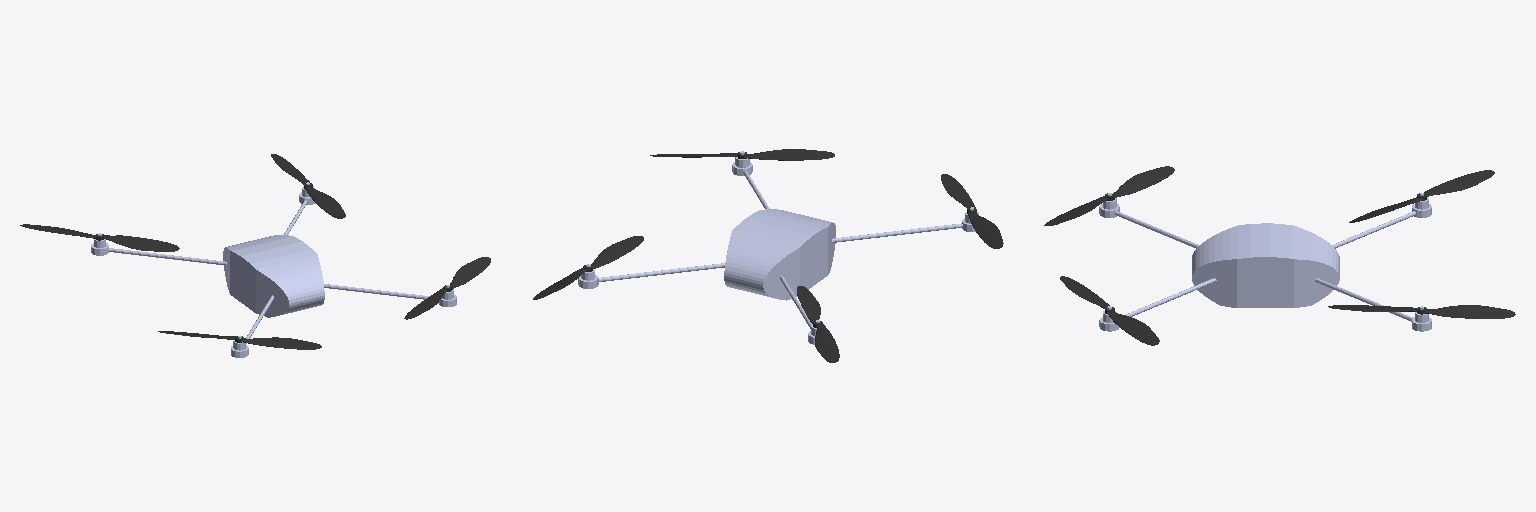
The robot description file, URDF, robot "Drone_Assembly":
<?xml version="1.0" encoding="utf-8"?>
<!-- This URDF was automatically created by SolidWorks to URDF Exporter! Originally created by [author] ([email redacted]) 
     Commit Version: 1.6.0-4-g7f85cfe  Build Version: 1.6.7995.38578
     For more information, please see http://wiki.ros.org/sw_urdf_exporter -->
<robot
  name="Drone_Assembly">
  <link
    name="base_link">
    <inertial>
      <origin
        xyz="9.3352E-08 -8.6507E-06 -0.020163"
        rpy="0 0 0" />
      <mass
        value="2.83" />
      <inertia
        ixx="0.020222"
        ixy="3.5918E-08"
        ixz="-7.5829E-11"
        iyy="0.011563"
        iyz="-5.9524E-09"
        izz="0.02802" />
    </inertial>
    <visual>
      <origin
        xyz="0 0 0"
        rpy="0 0 0" />
      <geometry>
        <mesh
          filename="package://Drone_Assembly/meshes/base_link.STL" />
      </geometry>
      <material
        name="">
        <color
          rgba="0.79216 0.81961 0.93333 1" />
      </material>
    </visual>
    <collision>
      <origin
        xyz="0 0 0"
        rpy="0 0 0" />
      <geometry>
        <mesh
          filename="package://Drone_Assembly/meshes/base_link.STL" />
      </geometry>
    </collision>
  </link>
  <link
    name="Prop_1">
    <visual>
      <origin
        xyz="0 0 0"
        rpy="0 0 0" />
      <geometry>
        <mesh
          filename="package://Drone_Assembly/meshes/Prop_1.STL" />
      </geometry>
      <material
        name="">
        <color
          rgba="0.25098 0.25098 0.25098 1" />
      </material>
    </visual>
  </link>
  <joint
    name="Prop_1"
    type="continuous">
    <origin
      xyz="0.23575 -0.27404 0.0070576"
      rpy="0 0 0" />
    <parent
      link="base_link" />
    <child
      link="Prop_1" />
    <axis
      xyz="0.061276 -0.10354 0.99274" />
    <limit
      lower="0"
      upper="0"
      effort="0"
      velocity="0" />
    <dynamics
      damping="0"
      friction="0" />
  </joint>
  <link
    name="Prop_2">
    <visual>
      <origin
        xyz="0 0 0"
        rpy="0 0 0" />
      <geometry>
        <mesh
          filename="package://Drone_Assembly/meshes/Prop_2.STL" />
      </geometry>
      <material
        name="">
        <color
          rgba="0.25098 0.25098 0.25098 1" />
      </material>
    </visual>
  </link>
  <joint
    name="Prop_2"
    type="continuous">
    <origin
      xyz="-0.23575 -0.27404 0.0070576"
      rpy="0 0 0" />
    <parent
      link="base_link" />
    <child
      link="Prop_2" />
    <axis
      xyz="0.081377 0.088619 0.99274" />
    <limit
      lower="0"
      upper="0"
      effort="0"
      velocity="0" />
    <dynamics
      damping="0"
      friction="0" />
  </joint>
  <link
    name="Prop_3">
    <visual>
      <origin
        xyz="0 0 0"
        rpy="0 0 0" />
      <geometry>
        <mesh
          filename="package://Drone_Assembly/meshes/Prop_3.STL" />
      </geometry>
      <material
        name="">
        <color
          rgba="0.25098 0.25098 0.25098 1" />
      </material>
    </visual>
  </link>
  <joint
    name="Prop_3"
    type="continuous">
    <origin
      xyz="-0.23575 0.27404 0.0070576"
      rpy="0 0 0" />
    <parent
      link="base_link" />
    <child
      link="Prop_3" />
    <axis
      xyz="0.091982 0.077554 -0.99274" />
    <limit
      lower="0"
      upper="0"
      effort="0"
      velocity="0" />
    <dynamics
      damping="0"
      friction="0" />
  </joint>
  <link
    name="Prop_4">
    <visual>
      <origin
        xyz="0 0 0"
        rpy="0 0 0" />
      <geometry>
        <mesh
          filename="package://Drone_Assembly/meshes/Prop_4.STL" />
      </geometry>
      <material
        name="">
        <color
          rgba="0.25098 0.25098 0.25098 1" />
      </material>
    </visual>
  </link>
  <joint
    name="Prop_4"
    type="continuous">
    <origin
      xyz="0.23575 0.27404 0.0070576"
      rpy="0 0 0" />
    <parent
      link="base_link" />
    <child
      link="Prop_4" />
    <axis
      xyz="0.11976 -0.011499 0.99274" />
    <limit
      lower="0"
      upper="0"
      effort="0"
      velocity="0" />
    <dynamics
      damping="0"
      friction="0" />
  </joint>
</robot>

--- Facts derived from the render (not from the file) ---
3 views of the same robot in one strip: view 1: azimuth 30°, elevation 25°; view 2: azimuth 150°, elevation 25°; view 3: azimuth 270°, elevation 25° (orthographic).
Model Drone_Assembly with 5 links and 4 joints (4 continuous), rooted at base_link, posed all joints at 0.
Links seen in each view (by area): view 1: base_link, Prop_3, Prop_1, Prop_4, Prop_2; view 2: base_link, Prop_2, Prop_3, Prop_4, Prop_1; view 3: base_link, Prop_4, Prop_2, Prop_1, Prop_3.
Boxes of the visible links, <box> form: base_link: <box>91,182,456,357</box>; Prop_3: <box>20,224,179,251</box>; Prop_1: <box>404,257,490,319</box>; Prop_4: <box>271,154,345,218</box>; Prop_2: <box>158,331,321,349</box>; base_link: <box>578,151,978,344</box>; Prop_2: <box>941,174,1003,248</box>; Prop_3: <box>797,286,839,362</box>; Prop_4: <box>533,236,643,299</box>; Prop_1: <box>650,149,834,160</box>; base_link: <box>1099,193,1431,331</box>; Prop_4: <box>1328,305,1515,318</box>; Prop_2: <box>1044,166,1174,225</box>; Prop_1: <box>1060,276,1159,345</box>; Prop_3: <box>1349,170,1494,222</box>.
Bounding box of the posed robot: 0.7381 × 0.8268 × 0.0999 m (x, y, z).
Meshes: 5 distinct files referenced, 5 mesh visuals loaded (5 binary STL).